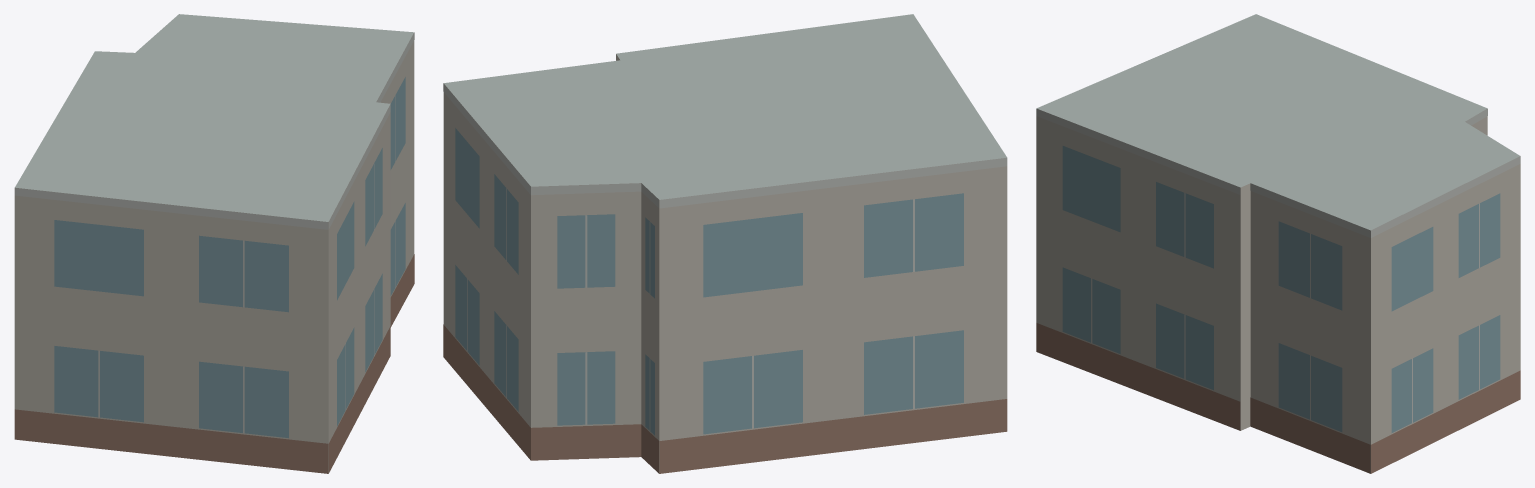
Rendered from survey-upis-32805246.glb.
3 renders of one model, left to right at view 1: azimuth 30°, elevation 25°; view 2: azimuth 150°, elevation 25°; view 3: azimuth 270°, elevation 25°, orthographic. The views are drawn at different scales.
Parts seen in each view (by area): view 1: survey-upis-32805246.tmp; view 2: survey-upis-32805246.tmp; view 3: survey-upis-32805246.tmp.
Boxes of the visible parts, x1,y1,x2,y2 form: survey-upis-32805246.tmp: (14,14,414,473); survey-upis-32805246.tmp: (443,14,1007,473); survey-upis-32805246.tmp: (1036,14,1520,473).
Bounding box in the file's own units: 14.89 × 7.8 × 14.07.
